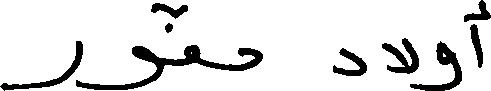X: (83, 0, 162, 90), (0, 36, 81, 90), (419, 36, 459, 90), (386, 33, 417, 90), (472, 0, 490, 72), (336, 43, 365, 80), (185, 0, 196, 69), (240, 43, 261, 75)
